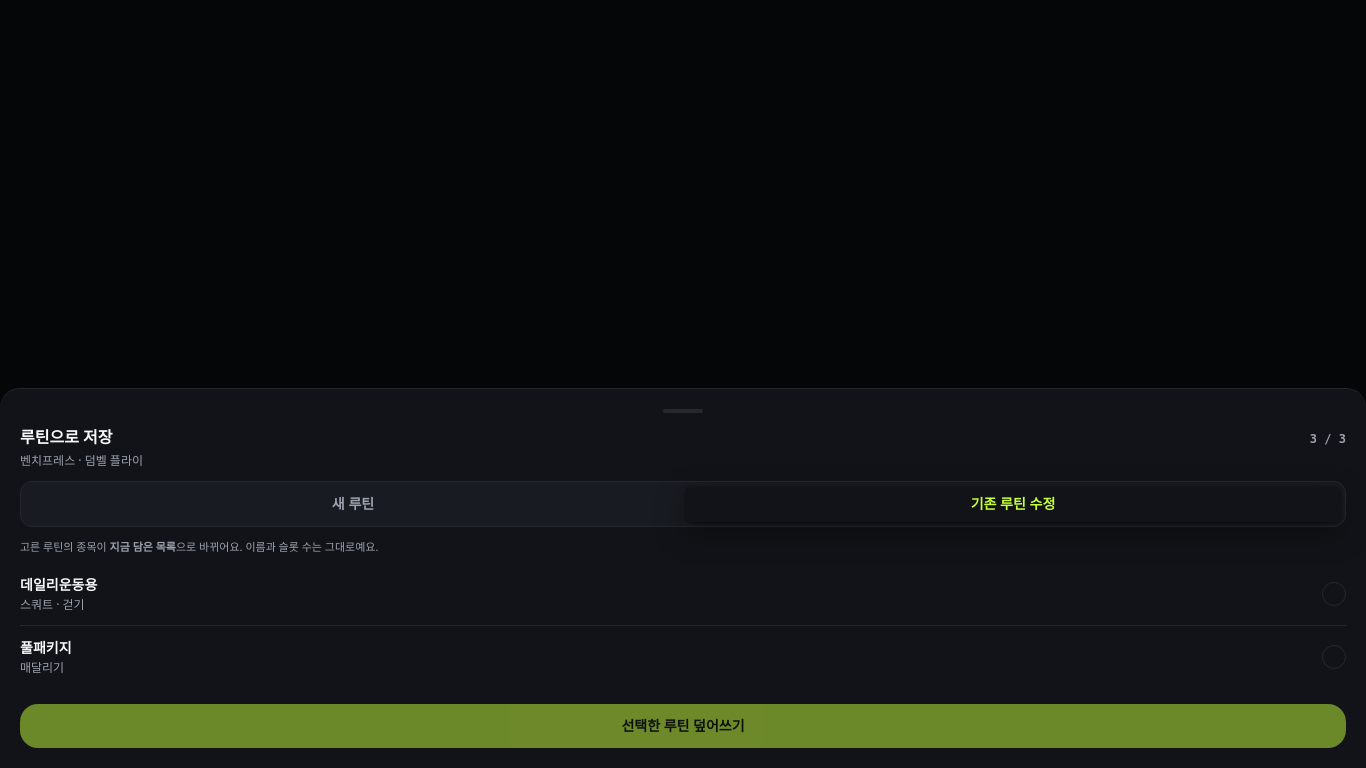
Test case: RoutineSaveSheet — 루틴으로 저장 (0056) › 슬롯이 꽉 차면 저장 버튼이 잠기고 다음 레벨을 알려준다
The image size is (1366, 768).
Step 1. Click the button "새 루틴" → (353, 504), box x1=25 y1=486 x2=681 y2=522
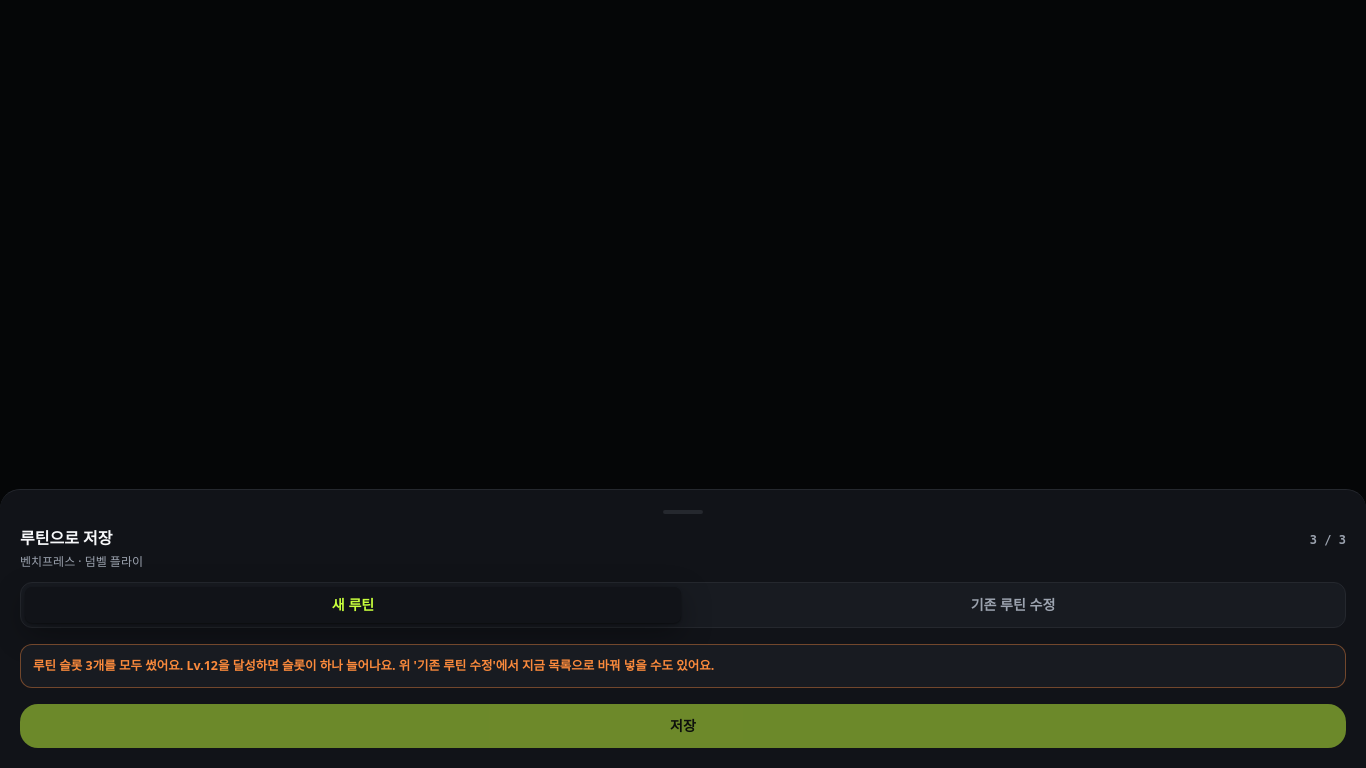
Expected: the button "저장" is disabled, x1=20 y1=704 x2=1346 y2=748
Now the text "Lv.12을 달성하면 슬롯이 하나 늘어나요" is shown, box x1=33 y1=657 x2=714 y2=674
